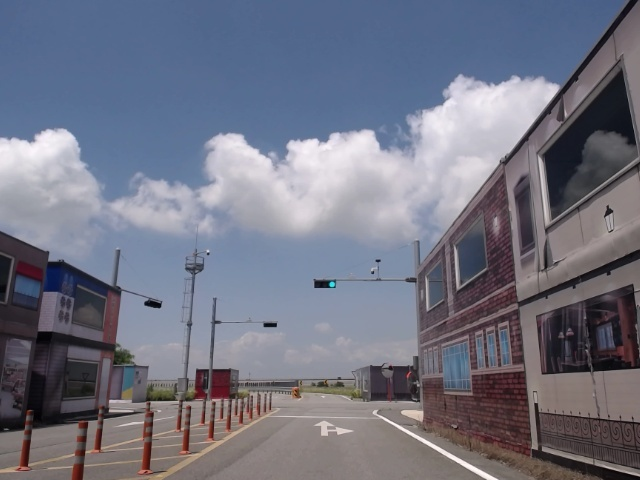green_3: (314, 281, 336, 287)
